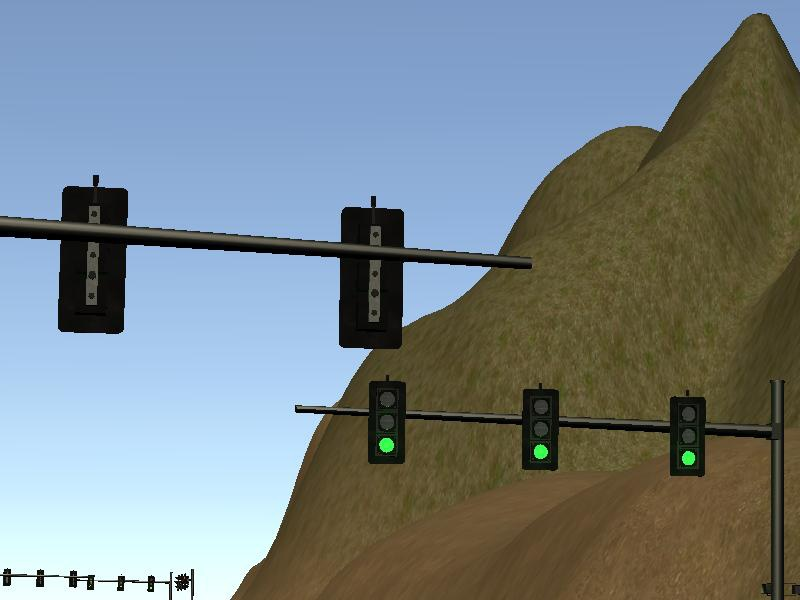Green: (368, 381, 405, 466), (670, 397, 704, 477), (524, 389, 557, 471), (146, 576, 154, 591), (117, 574, 124, 590)
